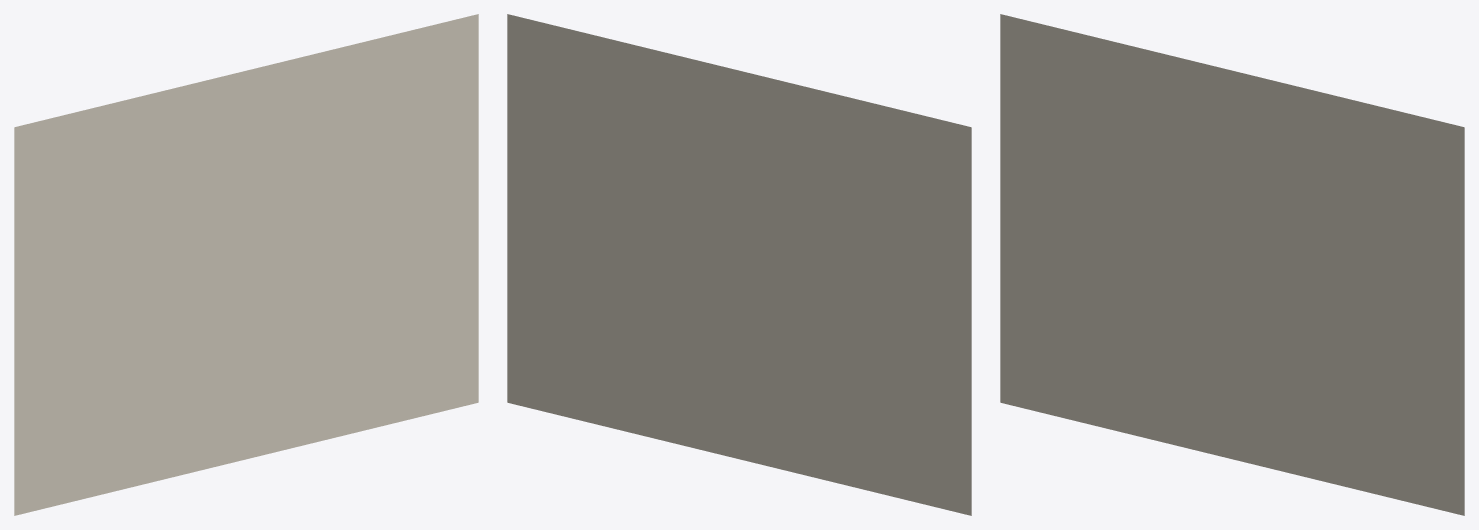
The model's file is AnhGiaDinh.glb.
3 renders of one model, left to right at view 1: azimuth 30°, elevation 25°; view 2: azimuth 150°, elevation 25°; view 3: azimuth 330°, elevation 25°, orthographic.
Visible parts, largest first — view 1: geometry_0; view 2: geometry_0; view 3: geometry_0.
Part boxes in pixels (box(x1,y1,x2,y2)): geometry_0: box(14, 14, 478, 515); geometry_0: box(507, 14, 971, 515); geometry_0: box(1000, 14, 1464, 515).
Size of the model in its own units: 0.5 by 0.4 by 0.01.
